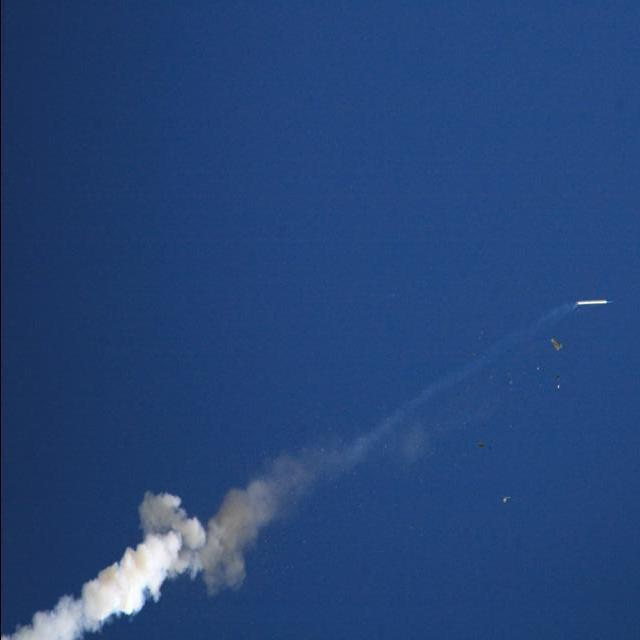missile: (572, 298, 612, 311)
